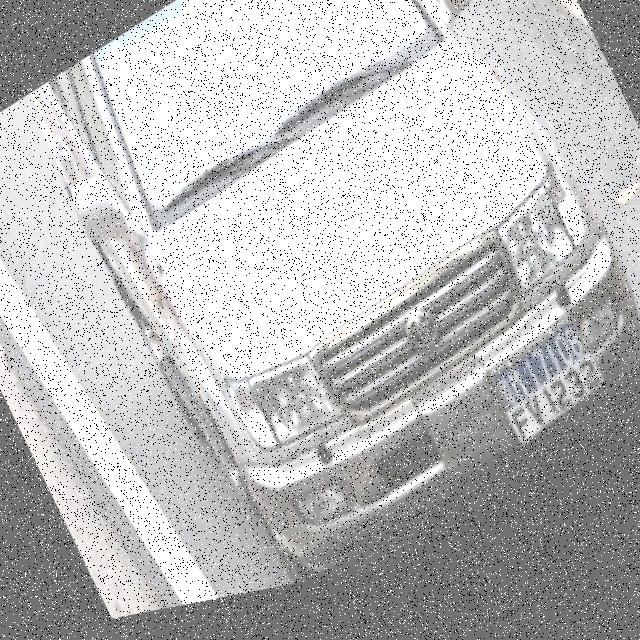license_plate: (488, 334, 606, 461)
